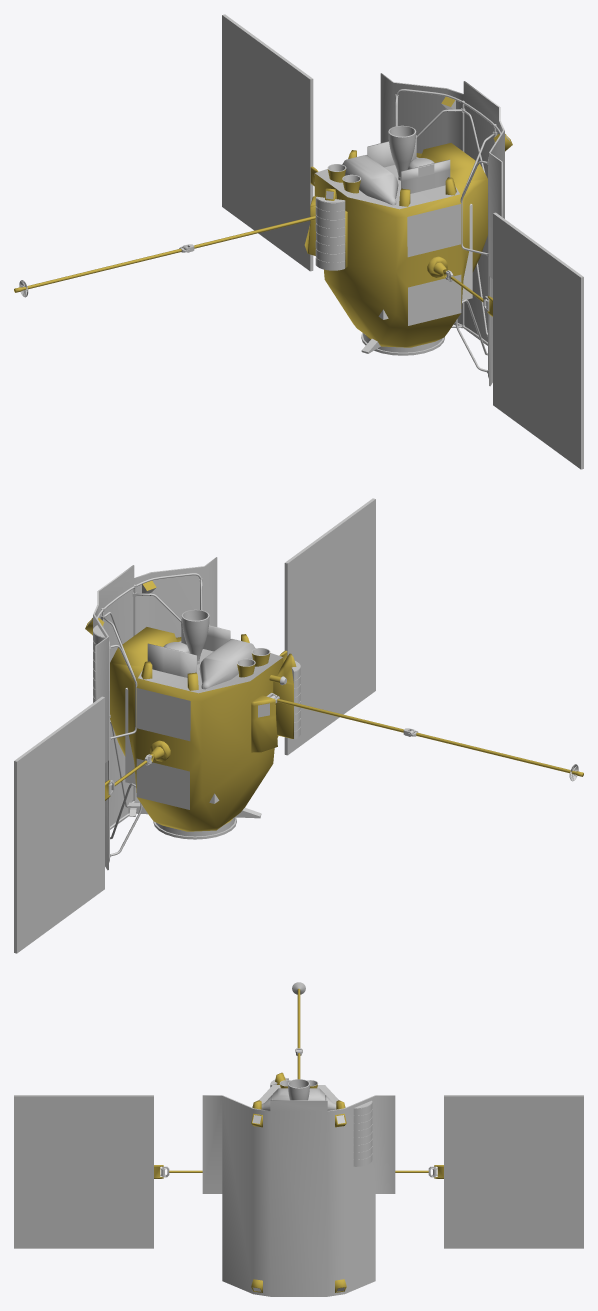
File: Messenger.dae
3 renders of one model, top to bottom at view 1: azimuth 30°, elevation 25°; view 2: azimuth 150°, elevation 25°; view 3: azimuth 270°, elevation 25°, orthographic. The views are drawn at different scales.
Parts seen in each view (by area): view 1: Tex_01, Foil_gold, AO_heatshield, Foil_silver, Tex_02, AO_other, Tex_darkgrey, AO_other2, _root; view 2: Tex_01, Foil_gold, AO_heatshield, Foil_silver, Tex_02, Tex_darkgrey, AO_other2, AO_other, _root; view 3: Tex_01, AO_heatshield, Foil_gold, AO_other, Foil_silver, Tex_darkgrey.
Boxes of the visible parts, <box> form: Tex_01: <box>222,14,583,469</box>; Foil_gold: <box>14,96,512,347</box>; AO_heatshield: <box>380,73,504,386</box>; Foil_silver: <box>315,135,459,209</box>; Tex_02: <box>327,89,500,378</box>; AO_other: <box>19,196,345,297</box>; Tex_darkgrey: <box>19,125,416,296</box>; AO_other2: <box>179,175,489,355</box>; _root: <box>378,204,472,319</box>; Tex_01: <box>14,498,375,953</box>; Foil_gold: <box>85,580,583,831</box>; AO_heatshield: <box>93,557,217,870</box>; Foil_silver: <box>138,619,282,717</box>; Tex_02: <box>97,573,286,862</box>; Tex_darkgrey: <box>181,609,578,780</box>; AO_other2: <box>108,659,418,839</box>; AO_other: <box>93,625,578,781</box>; _root: <box>125,688,219,803</box>; Tex_01: <box>14,1095,583,1248</box>; AO_heatshield: <box>202,1095,395,1296</box>; Foil_gold: <box>154,988,443,1292</box>; AO_other: <box>270,982,372,1166</box>; Foil_silver: <box>252,1085,345,1110</box>; Tex_darkgrey: <box>288,1079,309,1100</box>.
Bounding box in the file's own units: 5.28 × 6.96 × 2.64.
